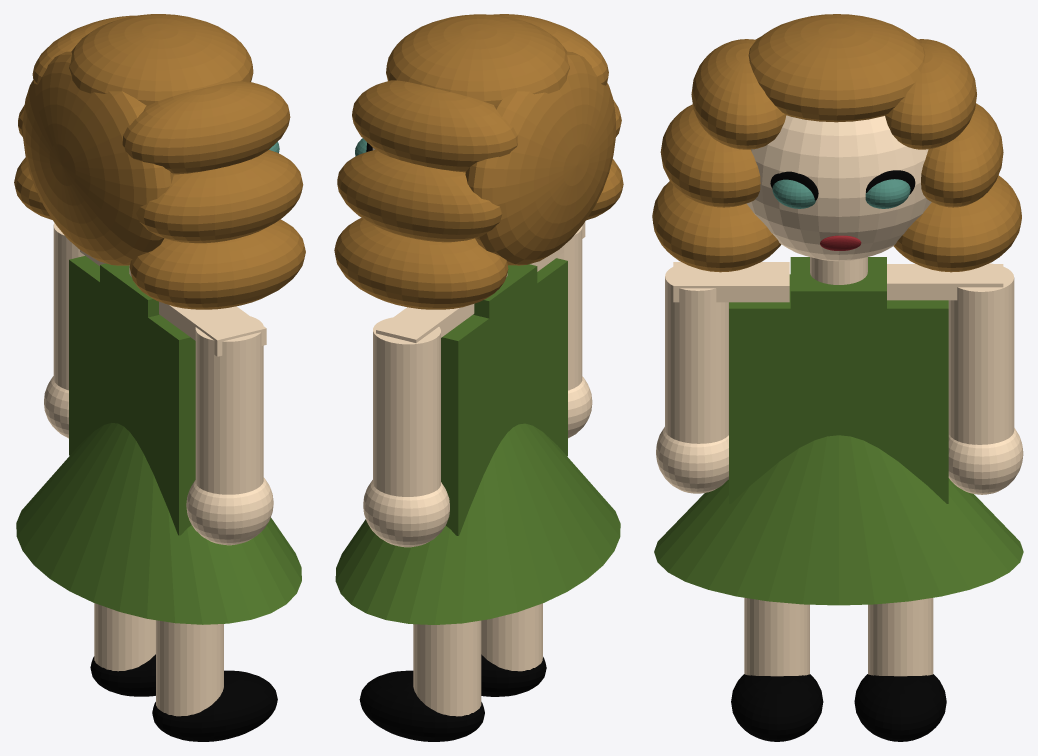
The model's file is Elizabeth.fbx.
3 views of the same model, side by side, from view 1: azimuth 30°, elevation 25°; view 2: azimuth 150°, elevation 25°; view 3: azimuth 270°, elevation 25° (orthographic).
Parts seen in each view (by area): view 1: Sphere.012, Cube, Sphere.015, Sphere.018, Sphere.019, Sphere.014; view 2: Sphere.012, Cube, Sphere.014, Sphere.019, Sphere.018, Sphere.015; view 3: Cube, Sphere.012, Sphere.013, Sphere.014, Sphere.015, Sphere.018, Sphere.019, Cylinder.
Boxes of the visible parts, bbox=[...] form: Sphere.012: bbox=[14, 14, 305, 309]; Cube: bbox=[16, 250, 301, 624]; Sphere.015: bbox=[186, 316, 273, 545]; Sphere.018: bbox=[152, 620, 277, 741]; Sphere.019: bbox=[90, 603, 155, 696]; Sphere.014: bbox=[44, 223, 84, 438]; Sphere.012: bbox=[334, 14, 623, 309]; Cube: bbox=[335, 222, 620, 624]; Sphere.014: bbox=[363, 317, 449, 547]; Sphere.019: bbox=[359, 620, 484, 741]; Sphere.018: bbox=[481, 603, 546, 696]; Sphere.015: bbox=[557, 226, 592, 438]; Cube: bbox=[654, 257, 1023, 605]; Sphere.012: bbox=[652, 14, 1021, 272]; Sphere.013: bbox=[746, 115, 931, 261]; Sphere.014: bbox=[948, 263, 1023, 494]; Sphere.015: bbox=[656, 267, 728, 493]; Sphere.018: bbox=[731, 597, 823, 741]; Sphere.019: bbox=[854, 598, 946, 741]; Cylinder: bbox=[810, 257, 867, 284].
Size of the model in its own units: 232 by 697 by 341.
